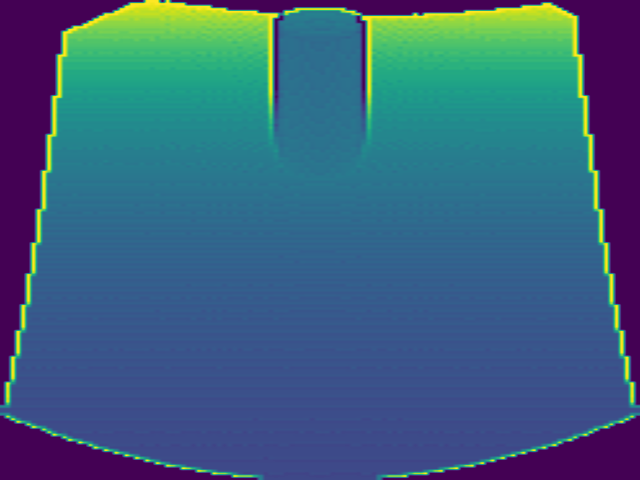cylinder: (270, 6, 371, 173)
